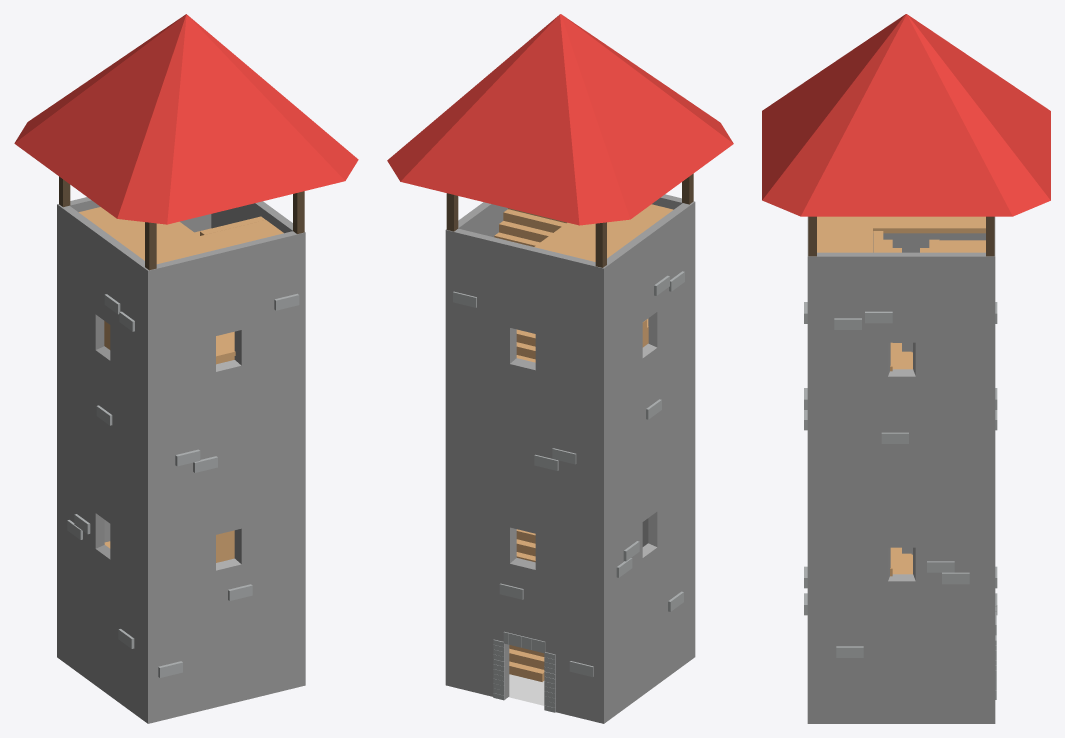
Rendered from tour(1).fbx.
The picture shows the model from 3 angles, left to right: view 1: azimuth 30°, elevation 25°; view 2: azimuth 150°, elevation 25°; view 3: azimuth 270°, elevation 25°; orthographic projection. The views are drawn at different scales.
Parts seen in each view (by area): view 1: Cube, Plane, Cube.014, Cube.020; view 2: Cube, Plane, Cube.014, Cube.013, Cube.001, Plane.001, Cube.005, Cube.009; view 3: Cube, Plane, Cube.014, Cube.012, Cube.005, Cube.009.
Boxes of the visible parts, x1,y1,x2,y2 form: Cube: (57, 197, 305, 723); Plane: (14, 14, 358, 224); Cube.014: (79, 207, 283, 264); Cube.020: (145, 222, 156, 270); Cube: (445, 194, 695, 723); Plane: (387, 14, 733, 225); Cube.014: (534, 204, 673, 261); Cube.013: (494, 208, 566, 246); Cube.001: (509, 645, 544, 681); Plane.001: (508, 674, 544, 705); Cube.005: (516, 529, 535, 562); Cube.009: (516, 329, 535, 362); Cube: (807, 217, 995, 723); Plane: (762, 14, 1050, 216); Cube.014: (817, 216, 985, 252); Cube.012: (939, 240, 985, 252); Cube.005: (890, 547, 912, 576); Cube.009: (890, 342, 912, 371).
Size of the model in its own units: 1221 by 3157 by 1224.
